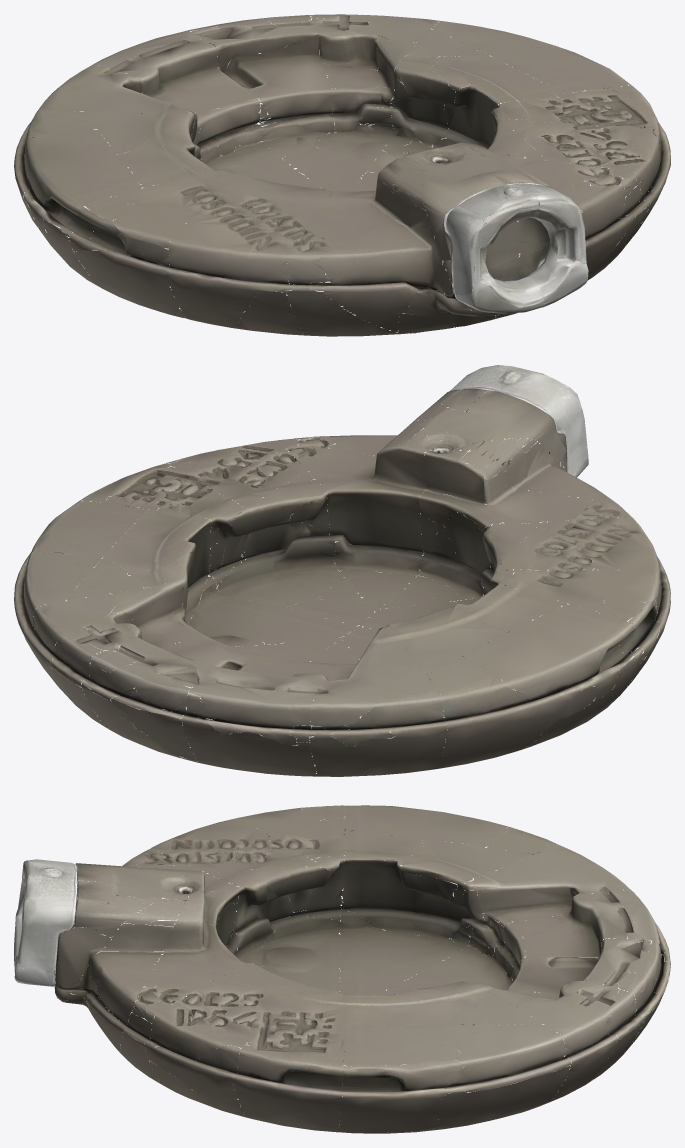
Rendered from dl-coil.glb.
The picture shows the model from 3 angles, top to bottom: view 1: azimuth 30°, elevation 25°; view 2: azimuth 150°, elevation 25°; view 3: azimuth 270°, elevation 25°; orthographic projection. The views are drawn at different scales.
Parts seen in each view (by area): view 1: tripo_node_50276839-b11e-4c59-a5b1-9175868b50ba; view 2: tripo_node_50276839-b11e-4c59-a5b1-9175868b50ba; view 3: tripo_node_50276839-b11e-4c59-a5b1-9175868b50ba.
Boxes of the visible parts, <box> form: tripo_node_50276839-b11e-4c59-a5b1-9175868b50ba: <box>14,14,670,336</box>; tripo_node_50276839-b11e-4c59-a5b1-9175868b50ba: <box>14,365,670,776</box>; tripo_node_50276839-b11e-4c59-a5b1-9175868b50ba: <box>14,805,670,1133</box>.
Bounding box in the file's own units: 0.9293 × 0.3062 × 0.981.
Materials: 1 (1 with a texture image).
